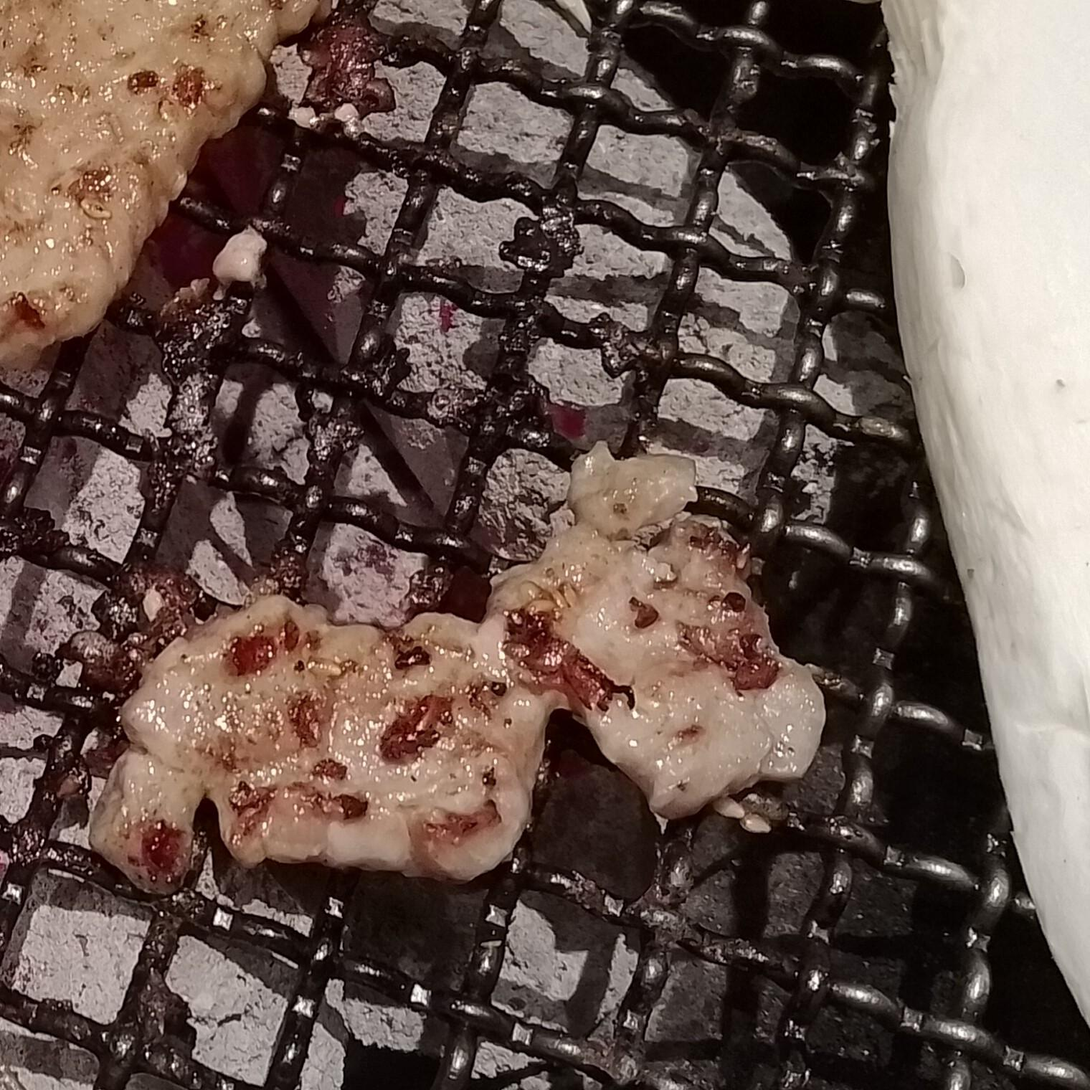Overcooked: (86, 491, 815, 894)
Well-Cooked: (0, 0, 341, 382)
